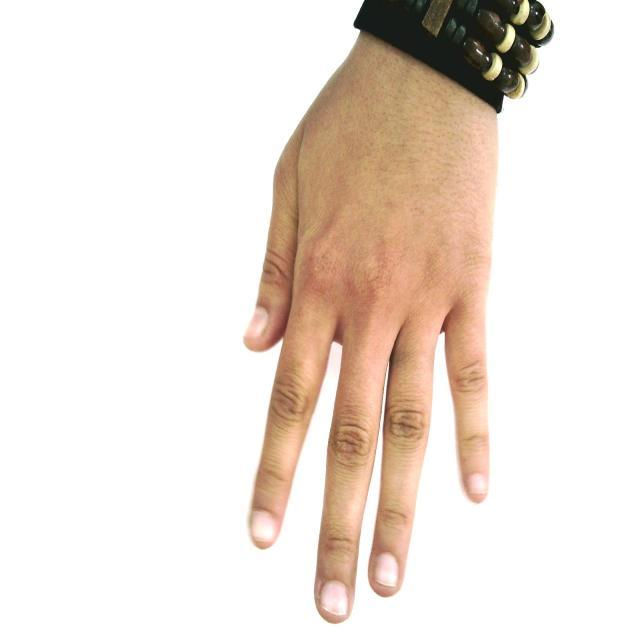Fingernail: (321, 581, 348, 616), (375, 554, 398, 587), (245, 307, 268, 340), (252, 512, 276, 542), (468, 475, 486, 496)
